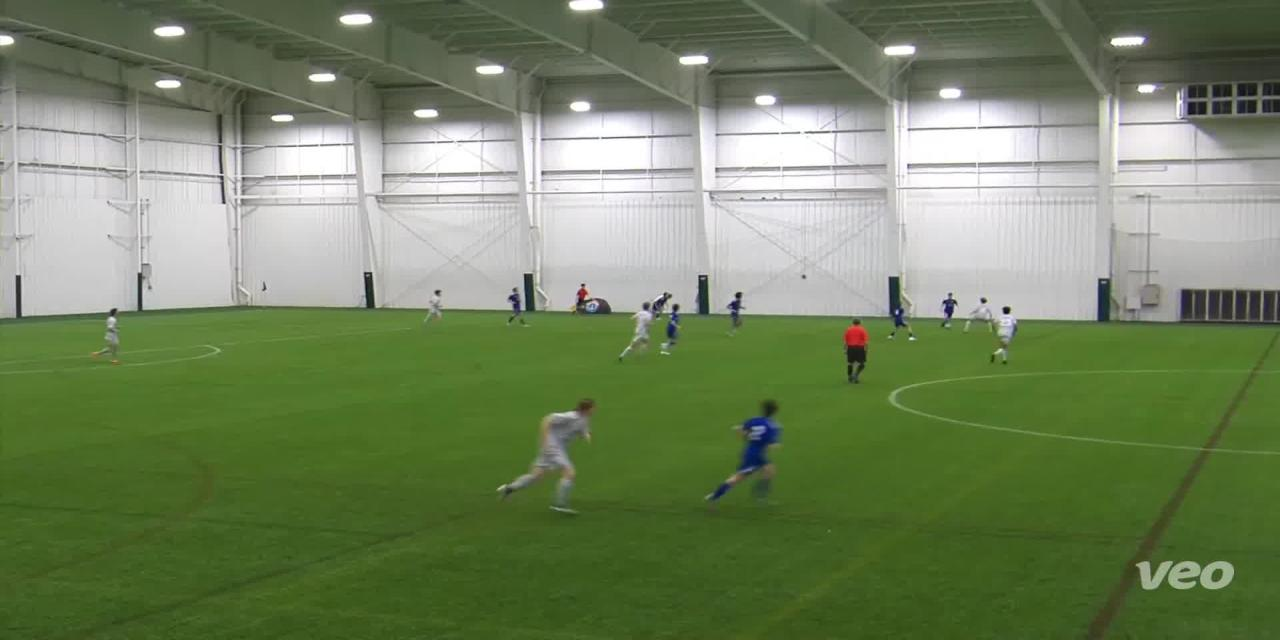sports ball: (941, 321, 952, 332)
